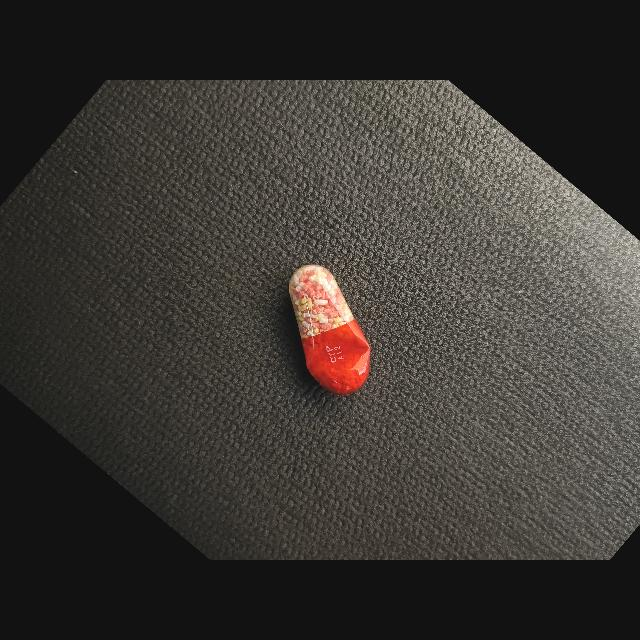Defective Capsule: (289, 265, 371, 395)
